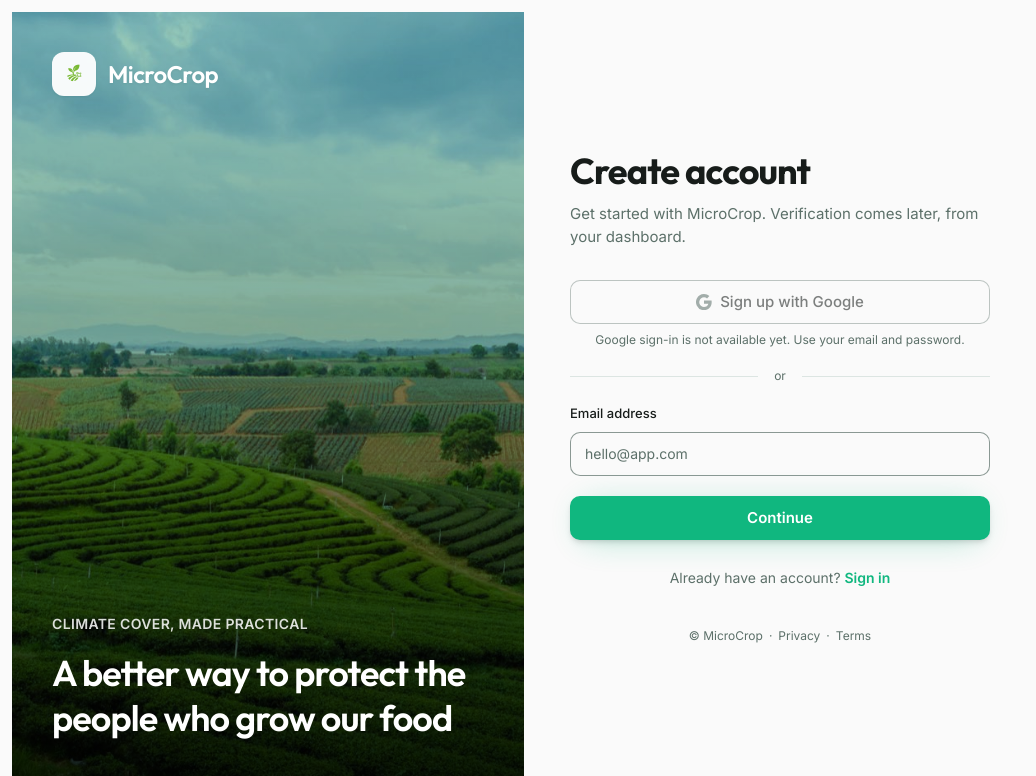
Test: step two — details › offers only the OPEN markets — a hidden market is not a signup choice
In the field labelled "Email address": [780, 454] box [570, 432, 990, 476], type "admin@acme.coop"
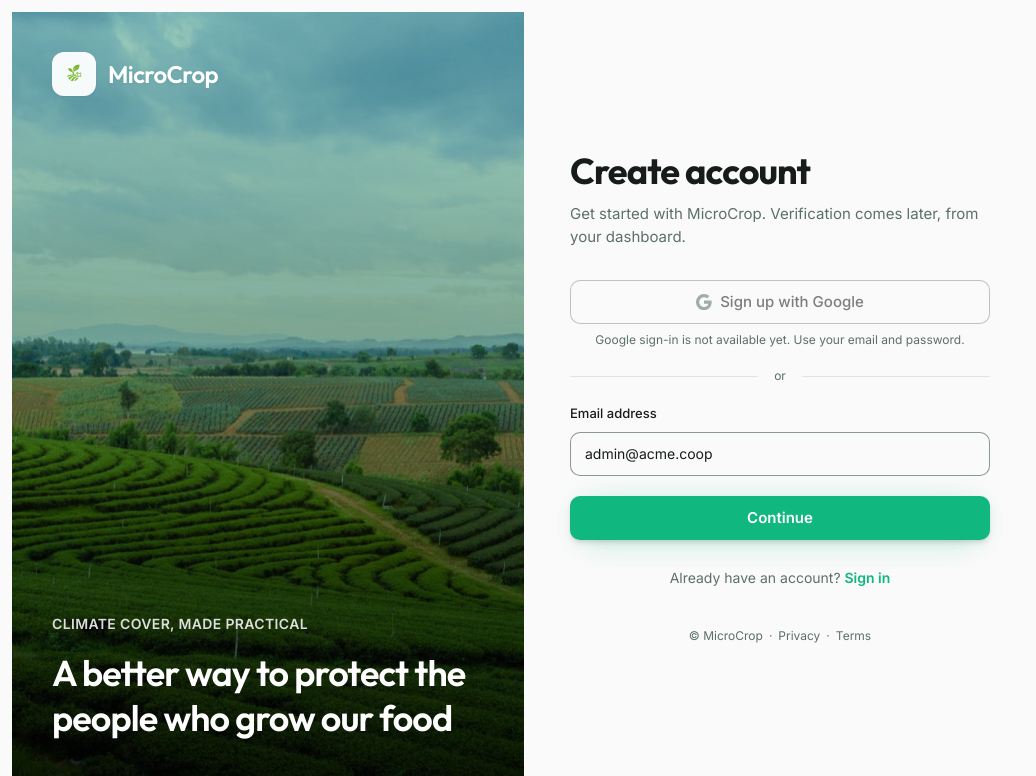
Click the button "Continue": [780, 518] box [570, 496, 990, 540]
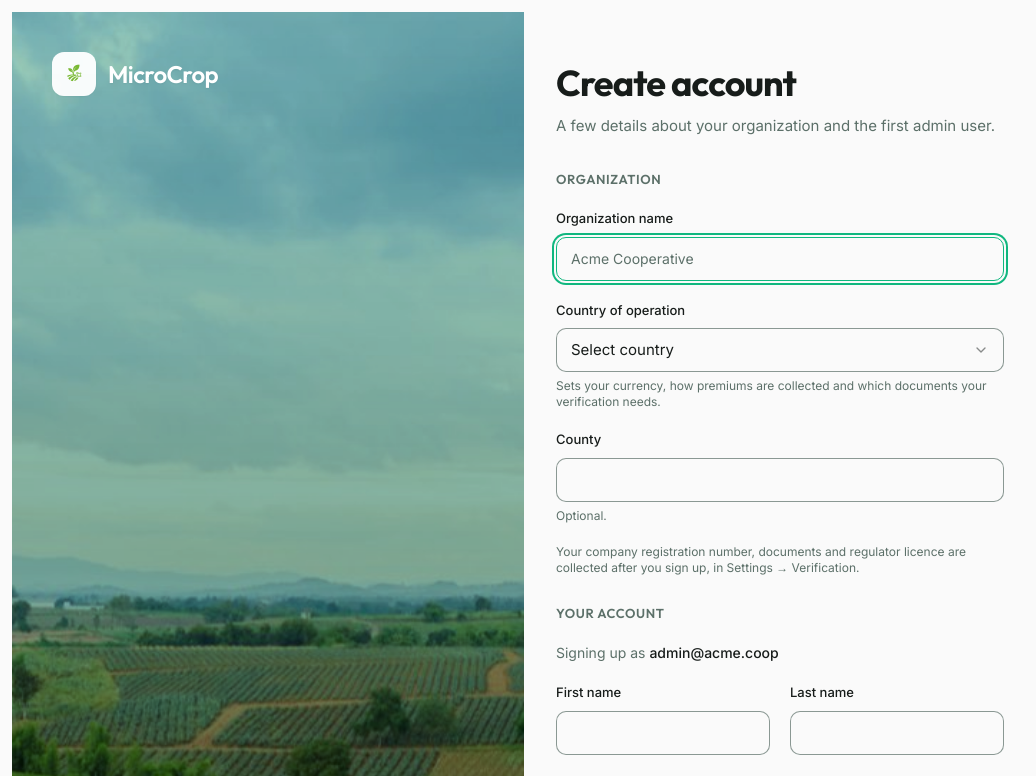
Click the dropdown named "country of operation": [622, 349] box [556, 328, 1004, 372]
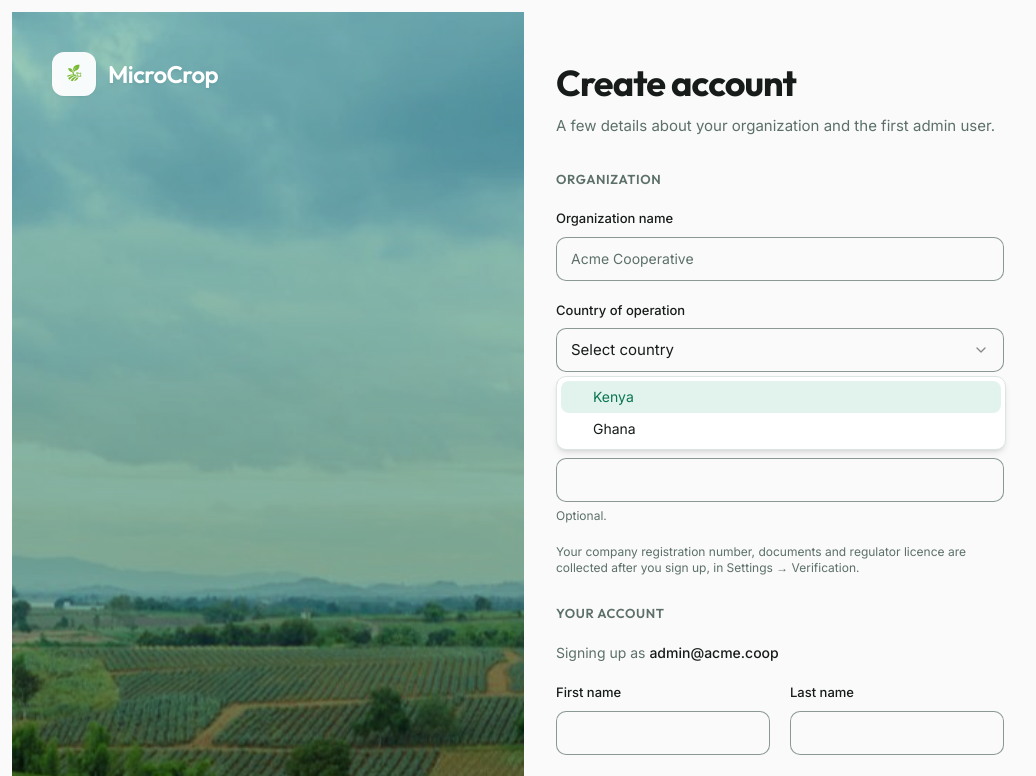
Check: the options read "Kenya", "Ghana", in this order, box [561, 381, 1001, 413]; [593, 420, 636, 437]
